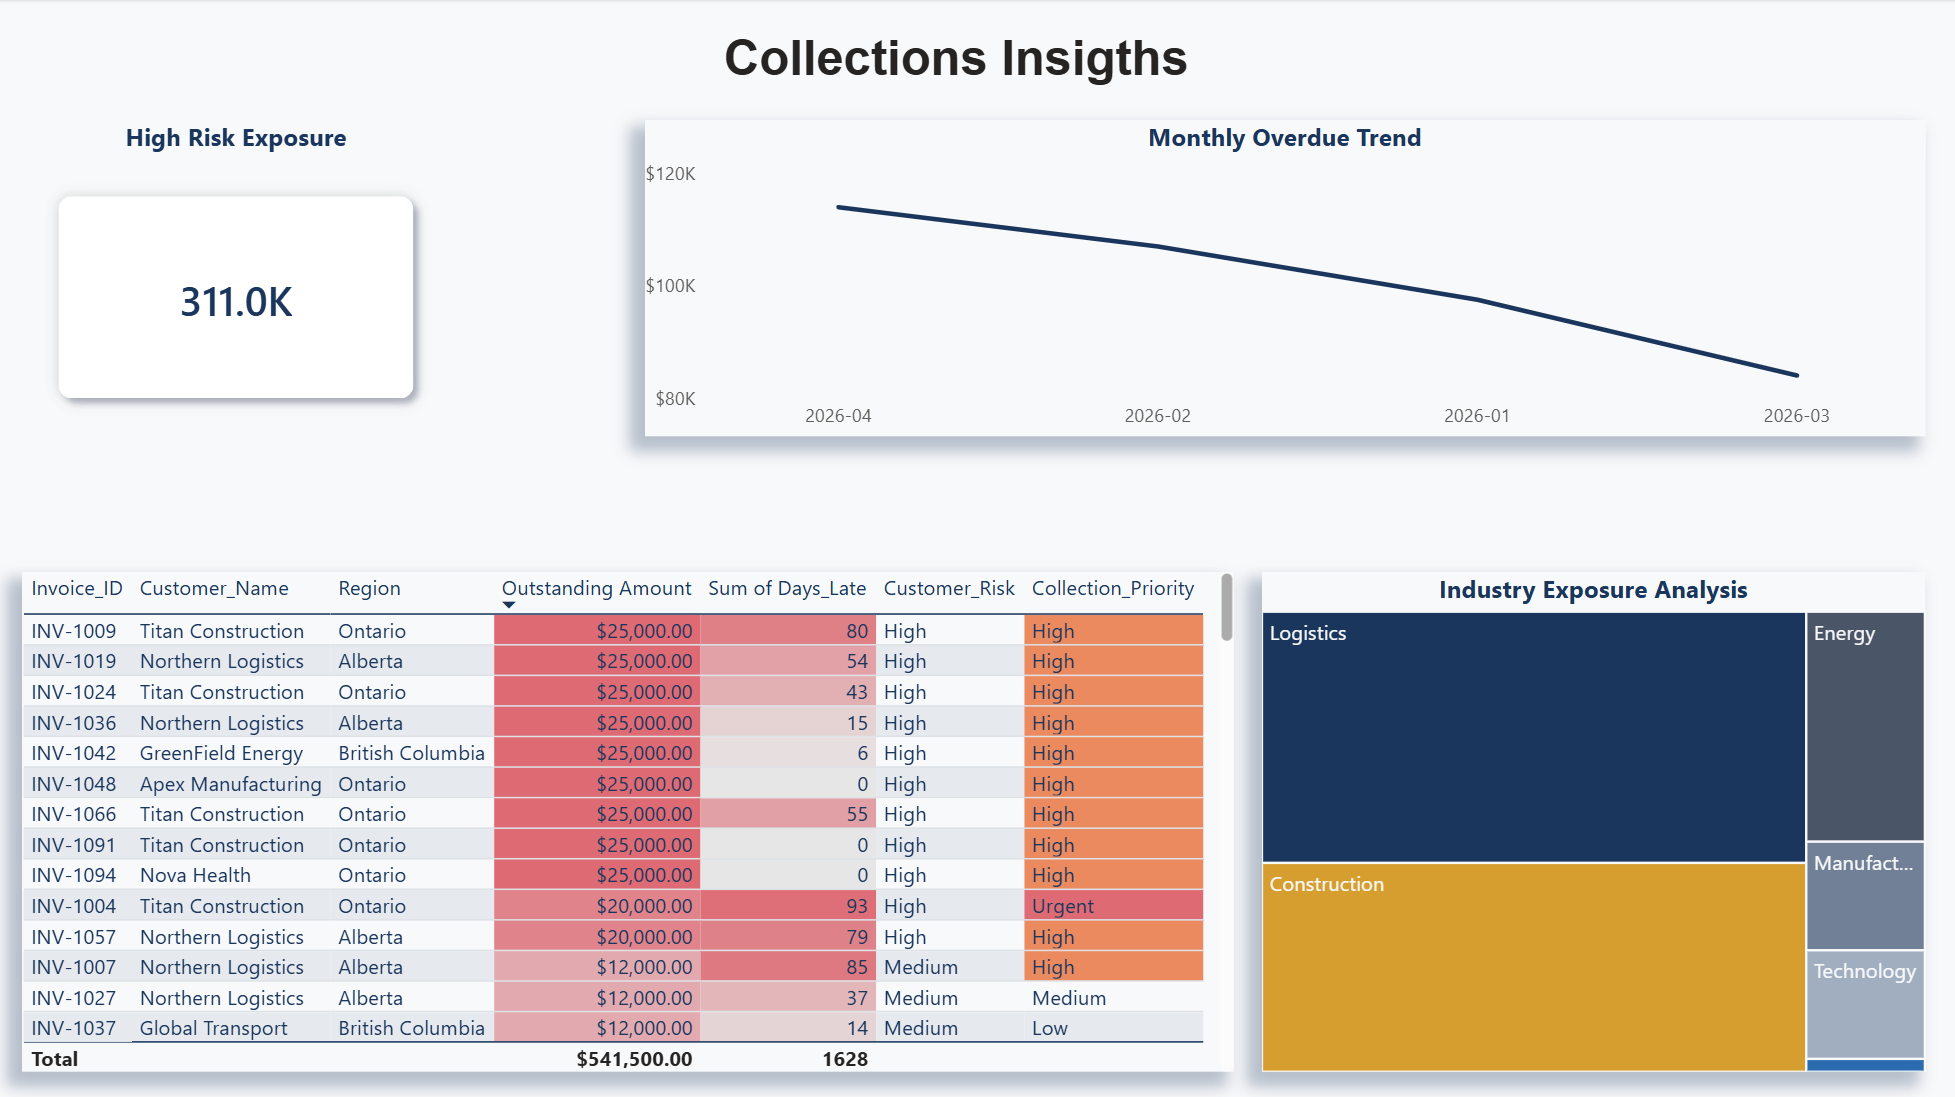

Layout of this report page (visuals, bound fields, positions):
{"tool":"powerbi","page":{"name":"Colletions Insights","canvas":[1280,720],"ordinal":1},"visuals":[{"type":"cardVisual","title":"High Risk Exposure","fields":{"Data":["AR_Invoices.High Priority Amount"]},"box":[15.3,79.4,280.3,206.9],"z":0},{"type":"lineChart","title":"Monthly Overdue Trend","fields":{"Category":["AR_Invoices.Invoice_Month"],"Y":["AR_Invoices.Overdue Amount"]},"box":[422.4,79.4,837.5,206.9],"z":1000},{"type":"treemap","title":"Industry Exposure Analysis","fields":{"Group":["AR_Invoices.Industry"],"Values":["AR_Invoices.Overdue Amount"]},"box":[826.2,375.1,433.8,327],"z":2000},{"type":"tableEx","fields":{"Values":["AR_Invoices.Invoice_ID","AR_Invoices.Customer_Name","AR_Invoices.Region","AR_Invoices.Outstanding Amount","Sum(AR_Invoices.Days_Late)","AR_Invoices.Customer_Risk","AR_Invoices.Collection_Priority"]},"box":[15.3,375.1,792.8,327],"z":3000},{"type":"textbox","box":[463.1,16,326.3,50.7],"z":4000}]}

Visuals, with their boxes in screenshot pixels (x1, y1, x2, y2), scaled from the page's 1280x720 canvas onto the 1955x1097 screenshot:
"High Risk Exposure" cardVisual: box(23, 121, 451, 436)
"Monthly Overdue Trend" lineChart: box(645, 121, 1924, 436)
"Industry Exposure Analysis" treemap: box(1262, 572, 1924, 1070)
tableEx - AR_Invoices.Invoice_ID x AR_Invoices.Customer_Name: box(23, 572, 1234, 1070)
textbox: box(707, 24, 1206, 102)
